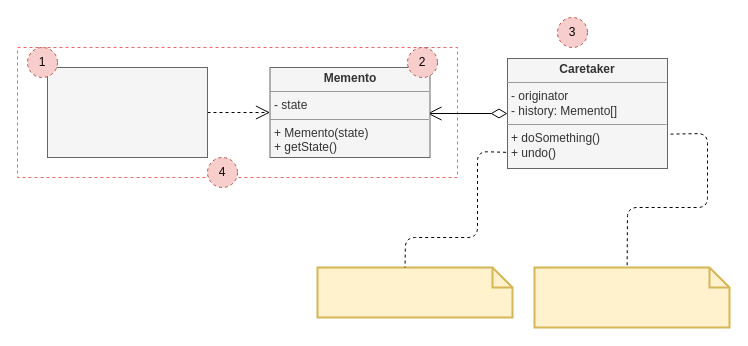
Image size: 748x346. Some labels were removed from this diagram. The centre of each missing label's shape, as x and y in pixels:
m = history.pop() originator.restore(m): (x=414, y=292)
m = originator.save() history.push(m) // originator.change(): (x=631, y=297)
Originator - state + save(): Memento + restore(m: Memento): (x=127, y=112)
